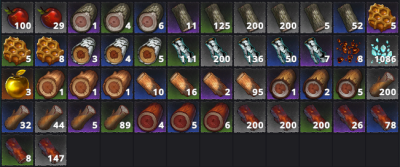ash heartwood: (135, 2, 165, 33), (69, 2, 99, 32), (103, 3, 132, 32)
ash log: (334, 2, 365, 34), (201, 2, 232, 32), (234, 2, 265, 32), (168, 2, 198, 32), (302, 2, 331, 33), (269, 3, 297, 33)
birch heartwood: (103, 35, 133, 66), (69, 36, 98, 65), (136, 36, 165, 65)
birch log: (301, 36, 332, 66), (269, 35, 298, 65), (169, 36, 198, 65), (202, 36, 231, 65), (236, 37, 264, 66)
chaos ember: (336, 37, 365, 66)
ethereal dust: (368, 36, 397, 67)
oak heartwood: (68, 68, 99, 99), (102, 68, 132, 98), (36, 68, 65, 98)
oak log: (136, 68, 166, 98), (235, 69, 265, 99), (202, 69, 233, 97), (169, 69, 199, 97)
spruce heartwood: (302, 68, 331, 98), (268, 69, 297, 98), (336, 70, 365, 98)
spruce log: (2, 102, 34, 132), (69, 102, 99, 132), (36, 102, 66, 131), (102, 102, 132, 131), (369, 71, 398, 98)
yew heartwood: (135, 102, 165, 132), (168, 101, 198, 131), (202, 101, 231, 131)
yew log: (334, 102, 366, 133), (2, 134, 34, 165), (235, 101, 266, 132), (300, 101, 332, 131), (35, 134, 65, 165), (268, 101, 298, 131), (368, 102, 398, 131)
